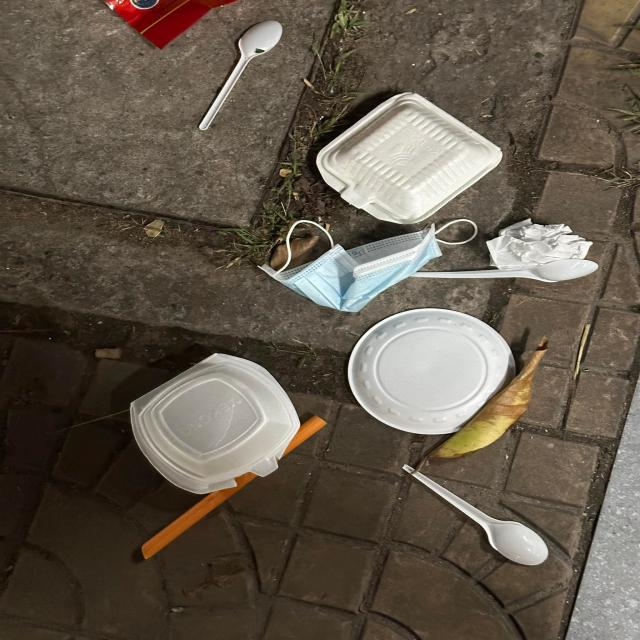drinking straw: (140, 414, 327, 563)
foam box: (316, 93, 504, 226), (127, 353, 300, 494)
mask: (258, 219, 476, 314)
napkin: (487, 220, 593, 272)
plastic holder: (350, 306, 515, 434)
plastic utensil: (400, 468, 547, 568), (197, 21, 281, 130), (396, 259, 598, 284)
